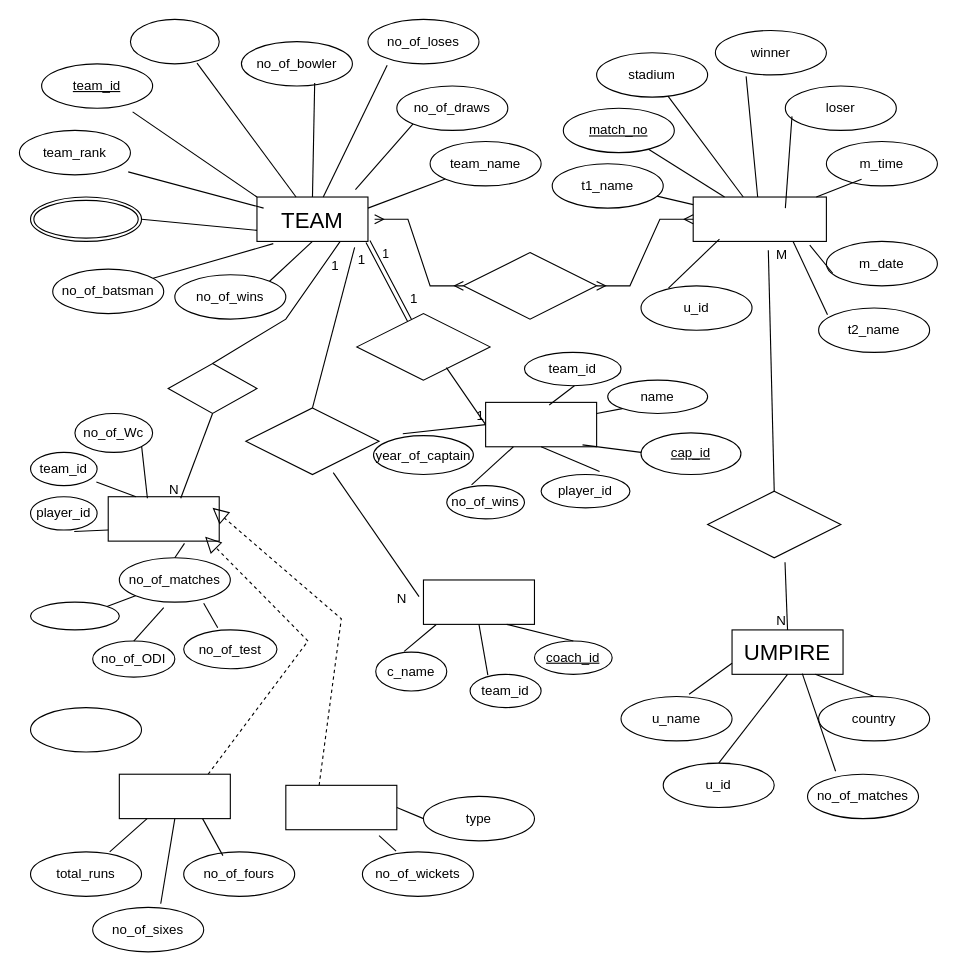
Image size: 957x971. Some labels were removed from this diagram. Each missing label, with the centre of its shape:
bating_avg: point 85,729
BATSMAN: point 174,796
BOWLER: point 341,807
CAPTAIN: point 541,424
COACH: point 478,601
country_name: point 174,41
HAS: point 212,387
HEADED BY: point 423,346
MATCHES: point 759,218
MEMBERED BY: point 312,441
no_of_T20: point 74,615
PLAYERS: point 163,518
PLAYS: point 529,285
UMPIERED BY: point 774,524
wicket_keeper: point 85,218
